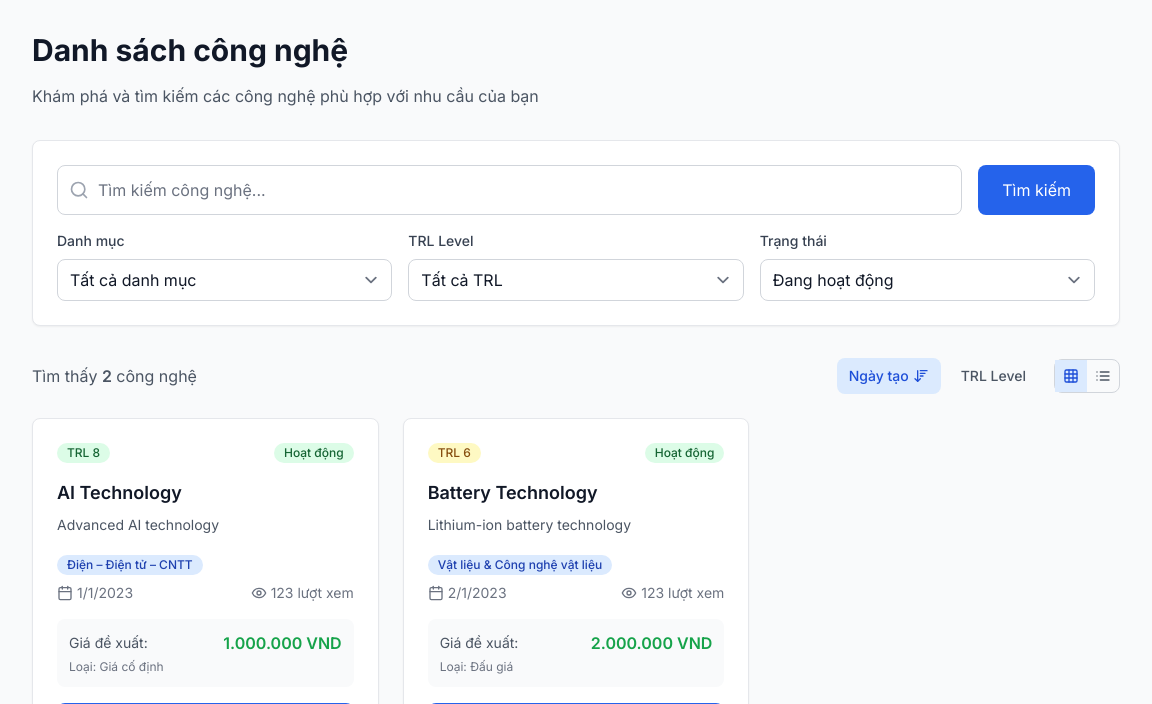
Test case: TechnologiesPage › filters technologies by TRL level
Select "TRL 7-9 (Thương mại hóa)" in the 2nd dropdown showing "Tất cả TRL": {"x": 576, "y": 280} x1=408 y1=259 x2=744 y2=301
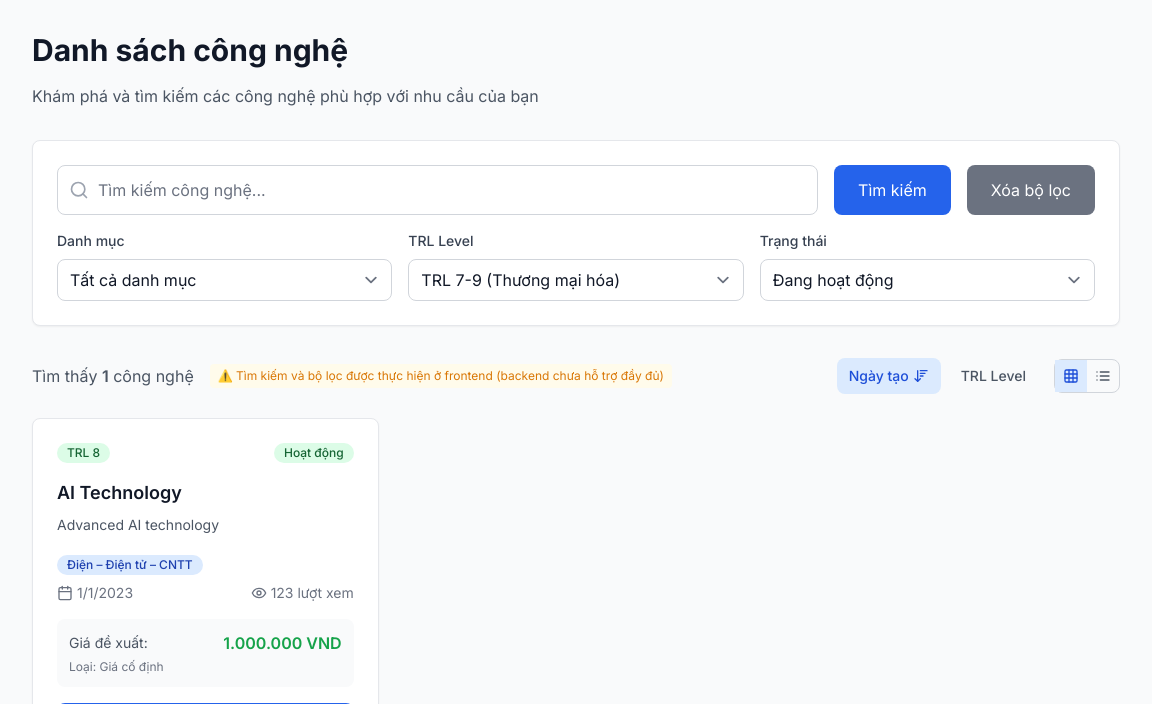
Check: the heading "AI Technology" is shown, box x1=57 y1=482 x2=182 y2=503
Check: the heading "Battery Technology" is gone
